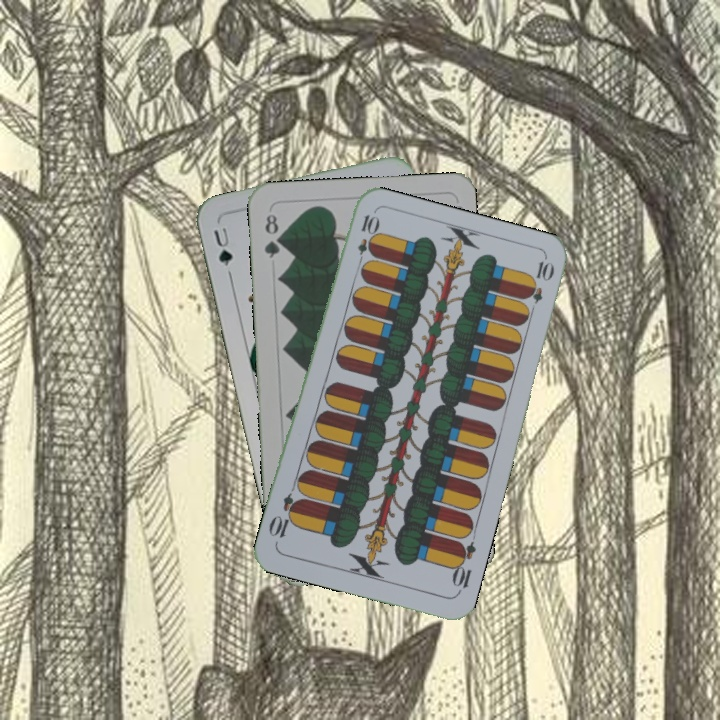E10: (448, 537, 479, 597), (353, 210, 379, 270)
G8: (260, 210, 284, 261)
GU: (209, 223, 236, 279)
